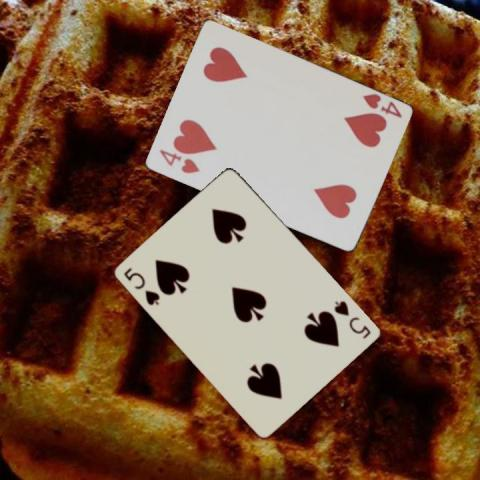4h: (156, 146, 201, 175), (359, 91, 403, 120)
5s: (331, 297, 373, 341), (121, 265, 162, 307)
